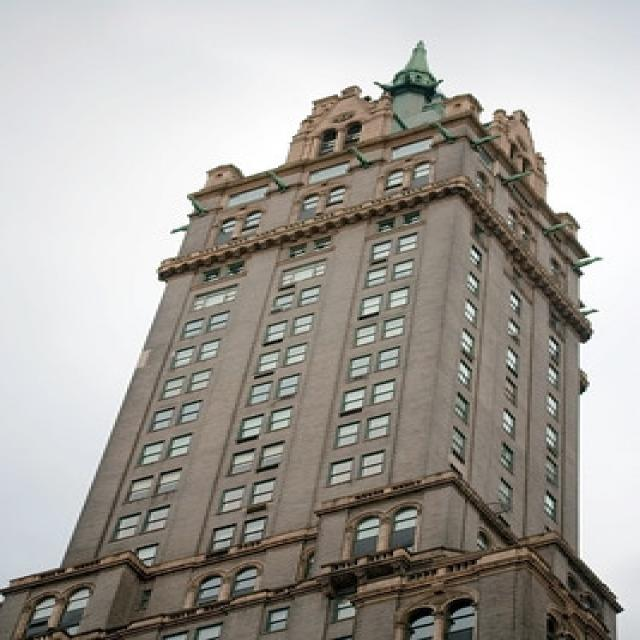Normal_building: (30, 88, 596, 637)
